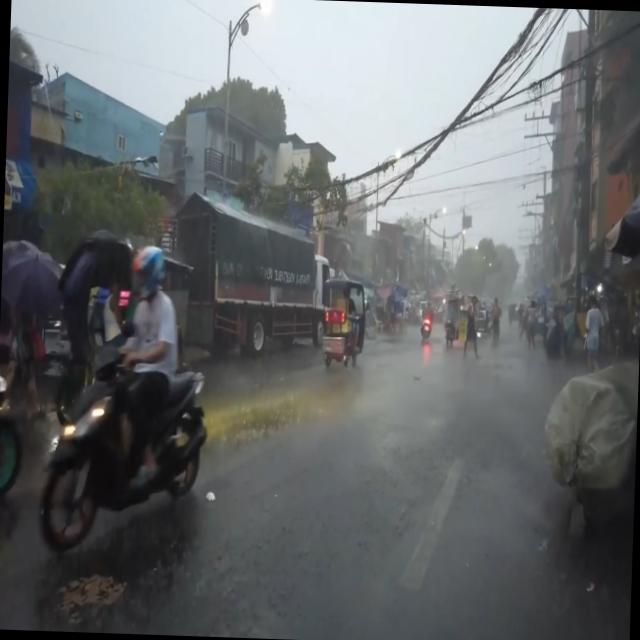full: (130, 244, 166, 302)
